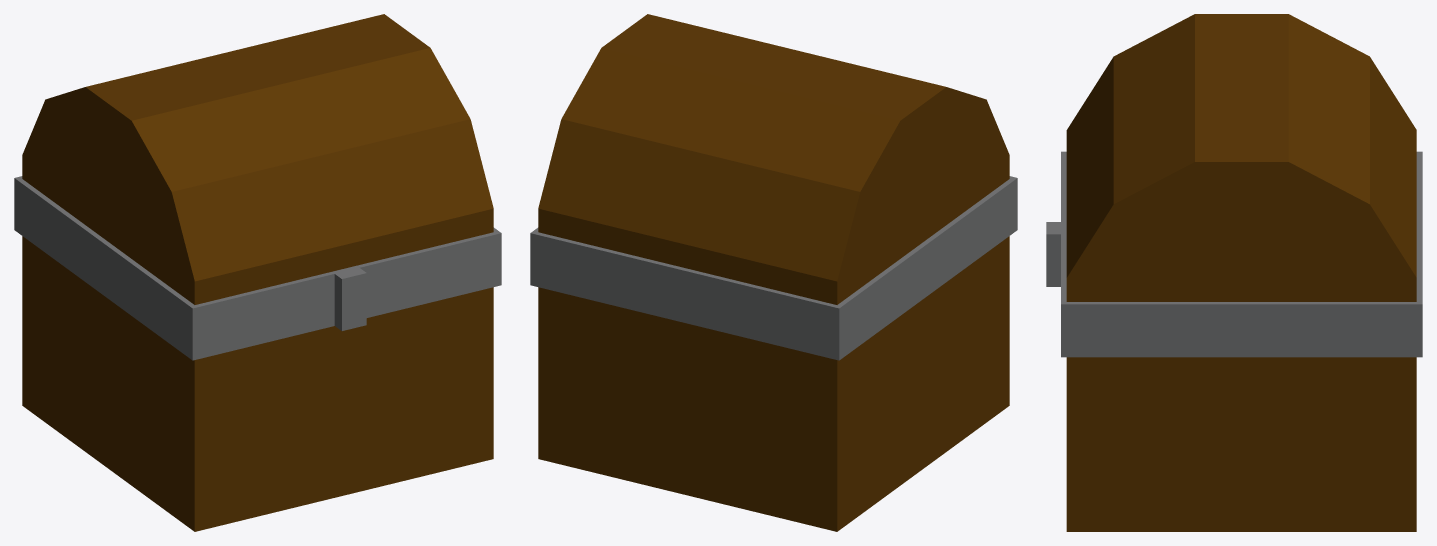
Rendered from Chest.gltf.
3 views of the same model, side by side, from view 1: azimuth 30°, elevation 25°; view 2: azimuth 150°, elevation 25°; view 3: azimuth 270°, elevation 25° (orthographic).
Visible parts, largest first — view 1: cuboid (×4), cylinder; view 2: cuboid (×3), cylinder; view 3: cylinder, cuboid (×5).
Boxes of the visible parts, bbox=[...] form: cuboid (×4): bbox=[14, 177, 496, 531]; cylinder: bbox=[22, 14, 493, 304]; cuboid (×3): bbox=[535, 177, 1017, 531]; cylinder: bbox=[538, 14, 1009, 304]; cylinder: bbox=[1066, 14, 1416, 301]; cuboid (×5): bbox=[1046, 154, 1422, 531].
Bounding box in the file's own units: 0.3875 × 0.4375 × 0.4031.
1 material, 1 textured.
